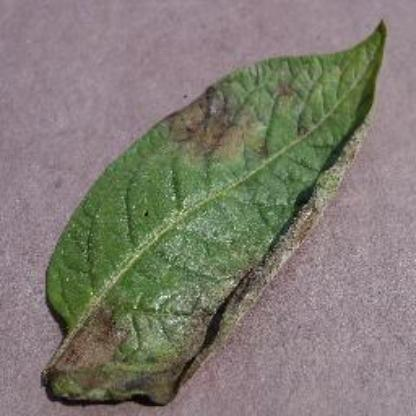Late-Blight: (44, 20, 394, 404)
